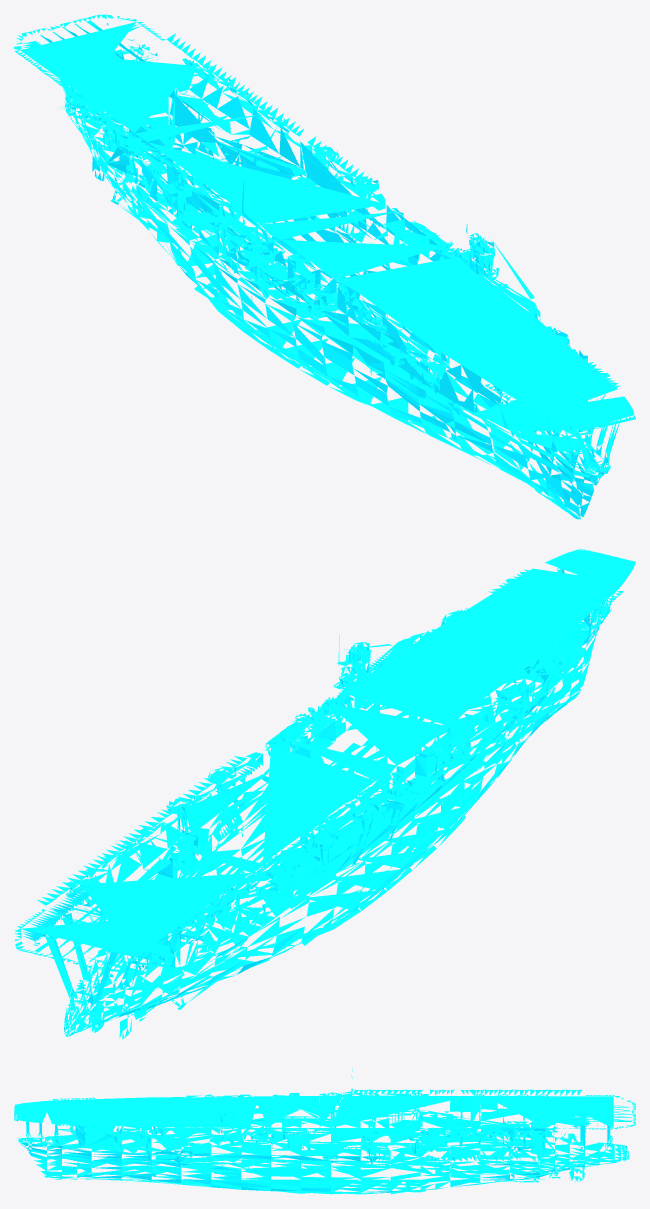
The model's file is Black_Kaga.glb.
3 renders of one model, top to bottom at view 1: azimuth 30°, elevation 25°; view 2: azimuth 150°, elevation 25°; view 3: azimuth 270°, elevation 25°, orthographic. The views are drawn at different scales.
Size of the model in its own units: 3 by 3.18 by 16.67.
